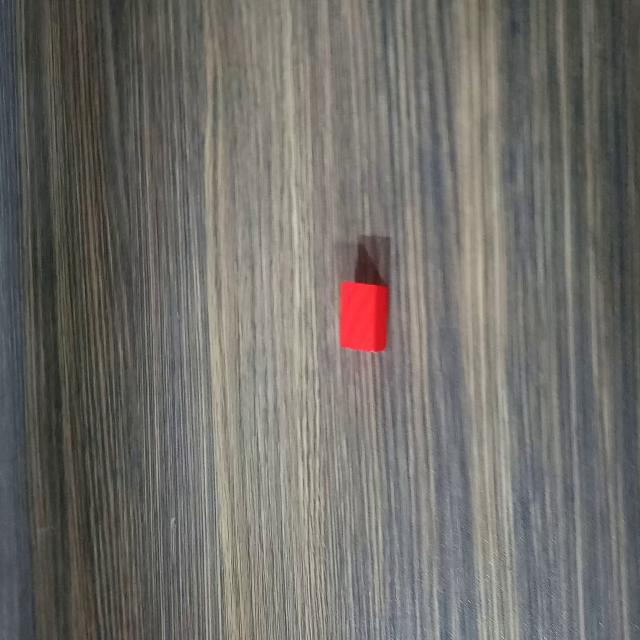cube: (335, 276, 390, 359)
